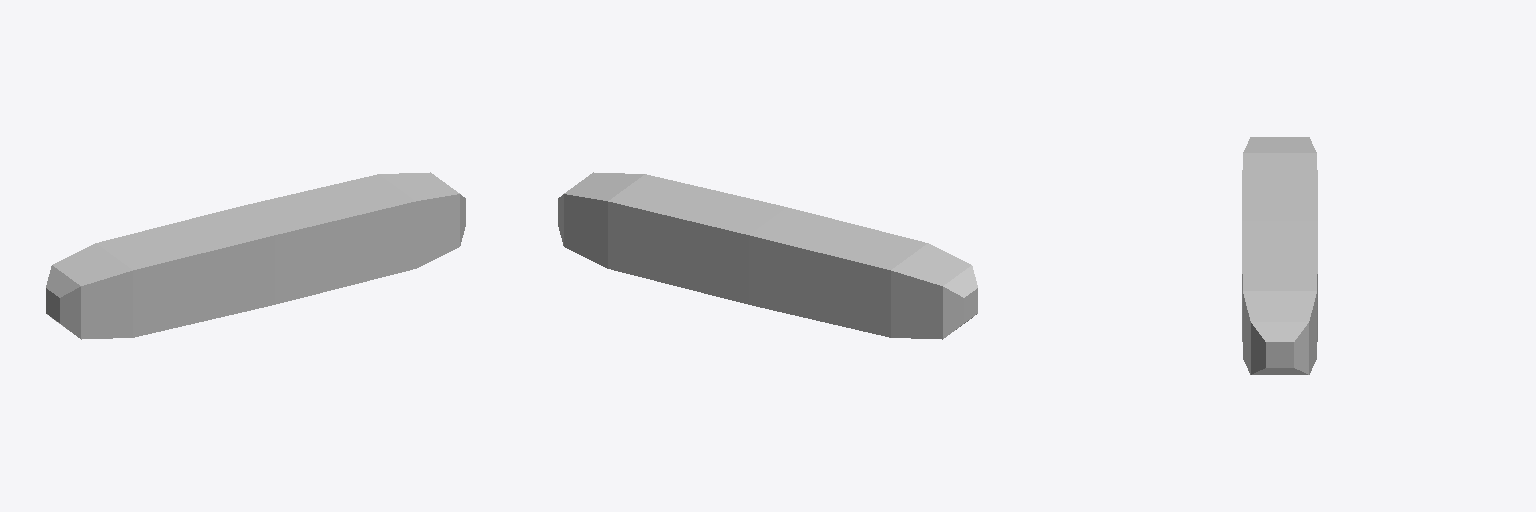
The model's file is LeftHandPinky1.obj.
The picture shows the model from 3 angles: view 1: azimuth 30°, elevation 25°; view 2: azimuth 150°, elevation 25°; view 3: azimuth 270°, elevation 25°; orthographic projection.
Parts seen in each view (by area): view 1: ../rami/model/LeftHandPinky1; view 2: ../rami/model/LeftHandPinky1; view 3: ../rami/model/LeftHandPinky1.
Boxes of the visible parts, box(x1,y1,x2,y2) form: ../rami/model/LeftHandPinky1: box(46, 172, 465, 339); ../rami/model/LeftHandPinky1: box(558, 172, 977, 339); ../rami/model/LeftHandPinky1: box(1242, 137, 1317, 374).
Bounding box in the file's own units: 1.97 × 0.3222 × 0.3222.